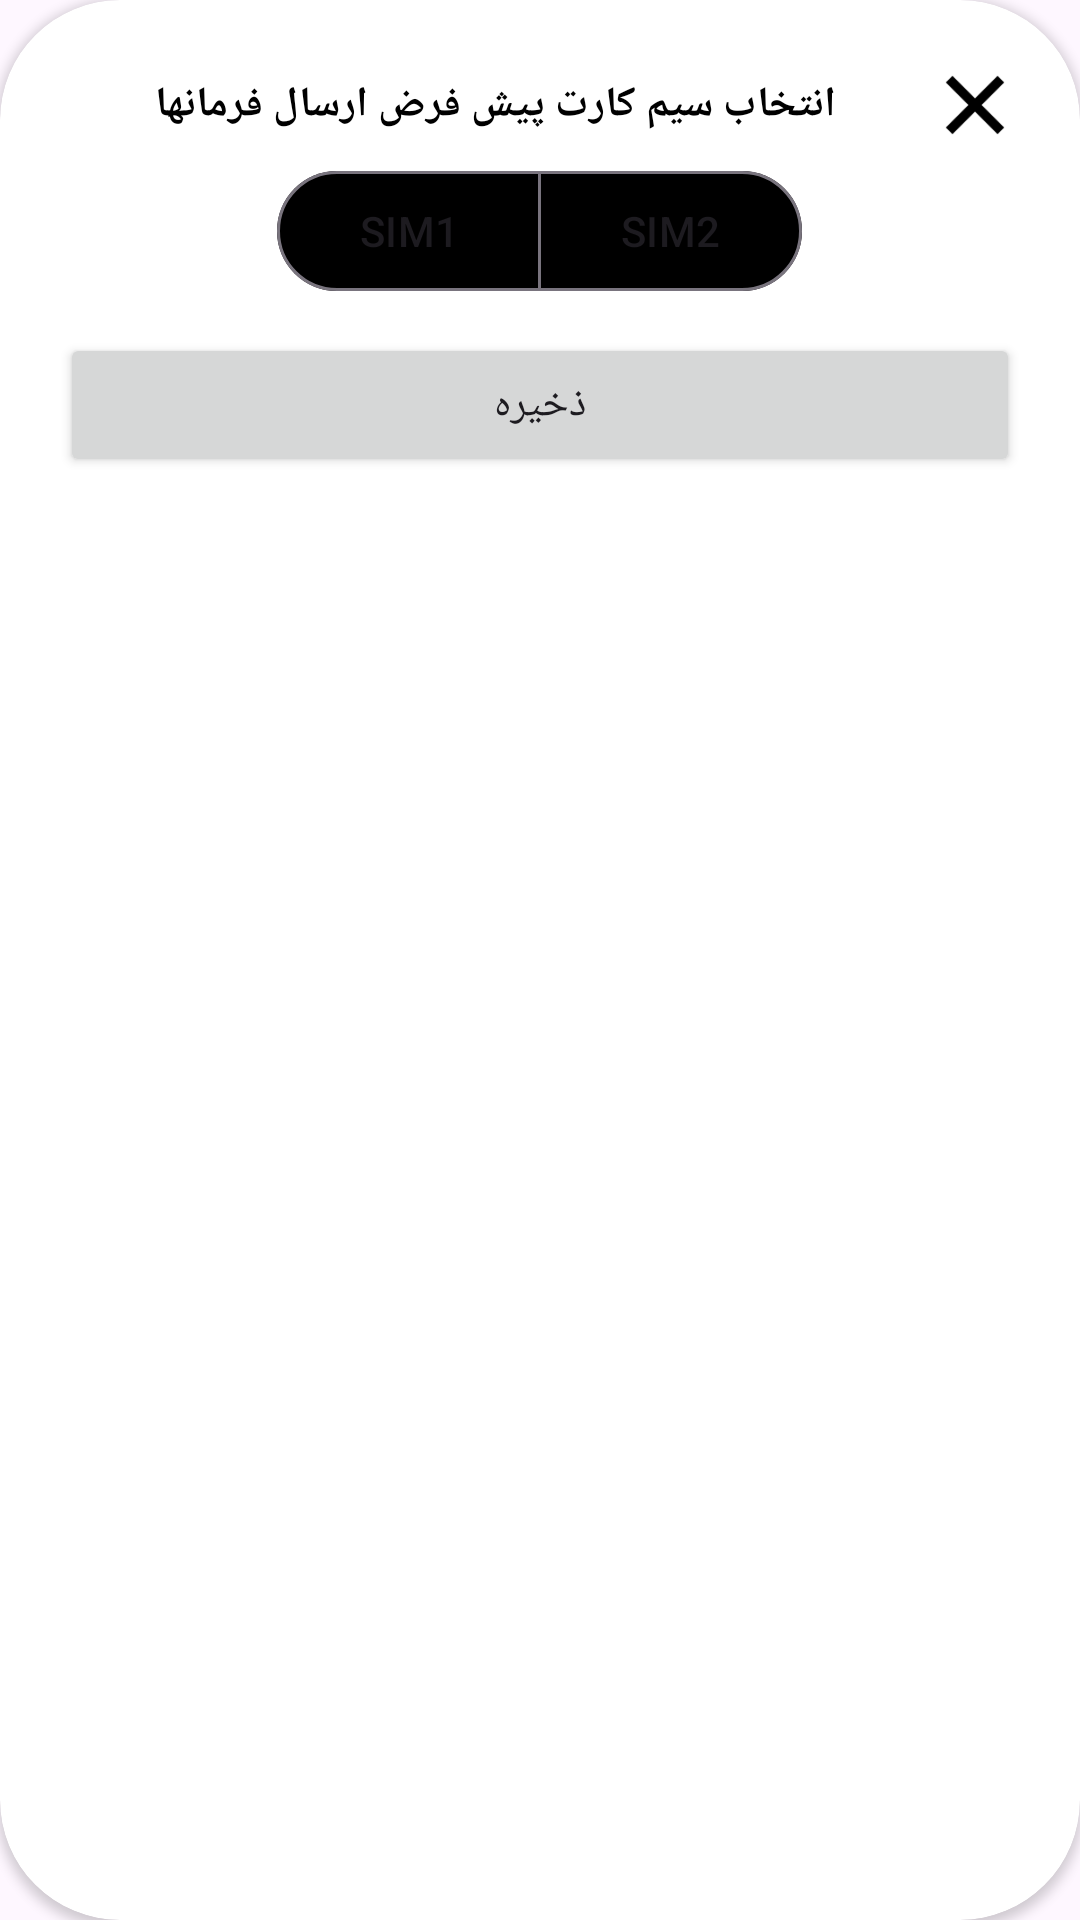

Where to tap for icons on this 1080×1920 app screen, as [x,y]:
close: [975,105]
